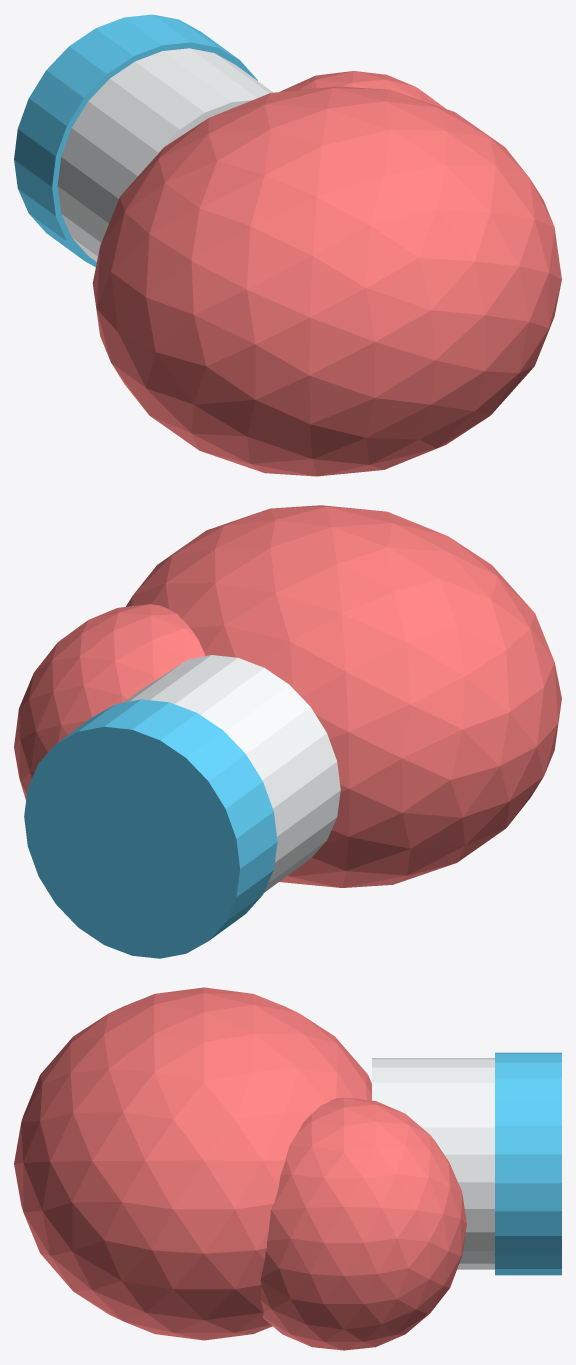
Rendered from boxing_glove.glb.
The picture shows the model from 3 angles, top to bottom: view 1: azimuth 30°, elevation 25°; view 2: azimuth 150°, elevation 25°; view 3: azimuth 270°, elevation 25°; orthographic projection. The views are drawn at different scales.
Visible parts, largest first — view 1: red, white, blue, red_1; view 2: red, blue, white, red_1; view 3: red, red_1, blue, white.
Boxes of the visible parts, box(x1,y1,x2,y2) form: red: box(92, 86, 561, 476); white: box(57, 48, 272, 261); blue: box(14, 14, 257, 267); red_1: box(280, 71, 445, 108); red: box(126, 505, 561, 887); blue: box(24, 699, 277, 958); white: box(123, 655, 340, 892); red_1: box(14, 604, 205, 800); red: box(14, 987, 371, 1340); red_1: box(260, 1097, 466, 1350); blue: box(495, 1052, 561, 1275); white: box(372, 1058, 494, 1269).
Size of the model in its own units: 0.79 by 0.6 by 0.98.
